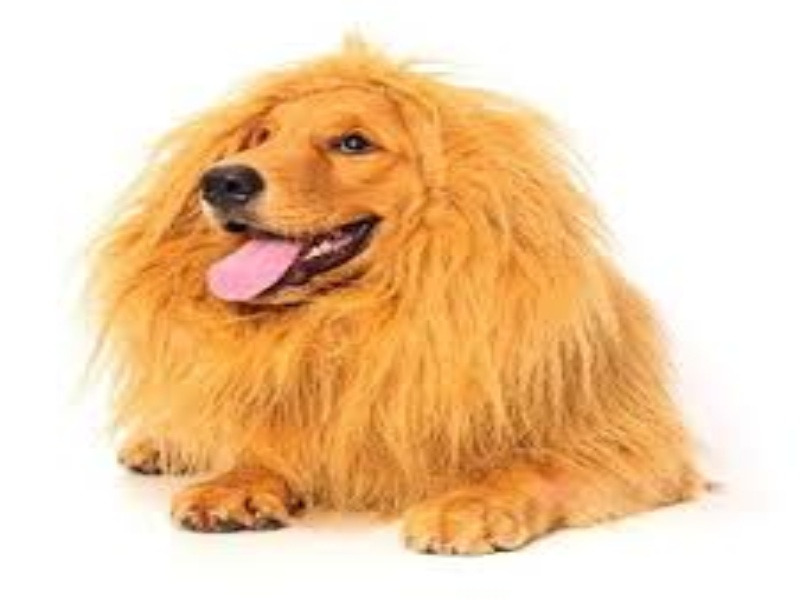dog: (86, 35, 721, 561)
